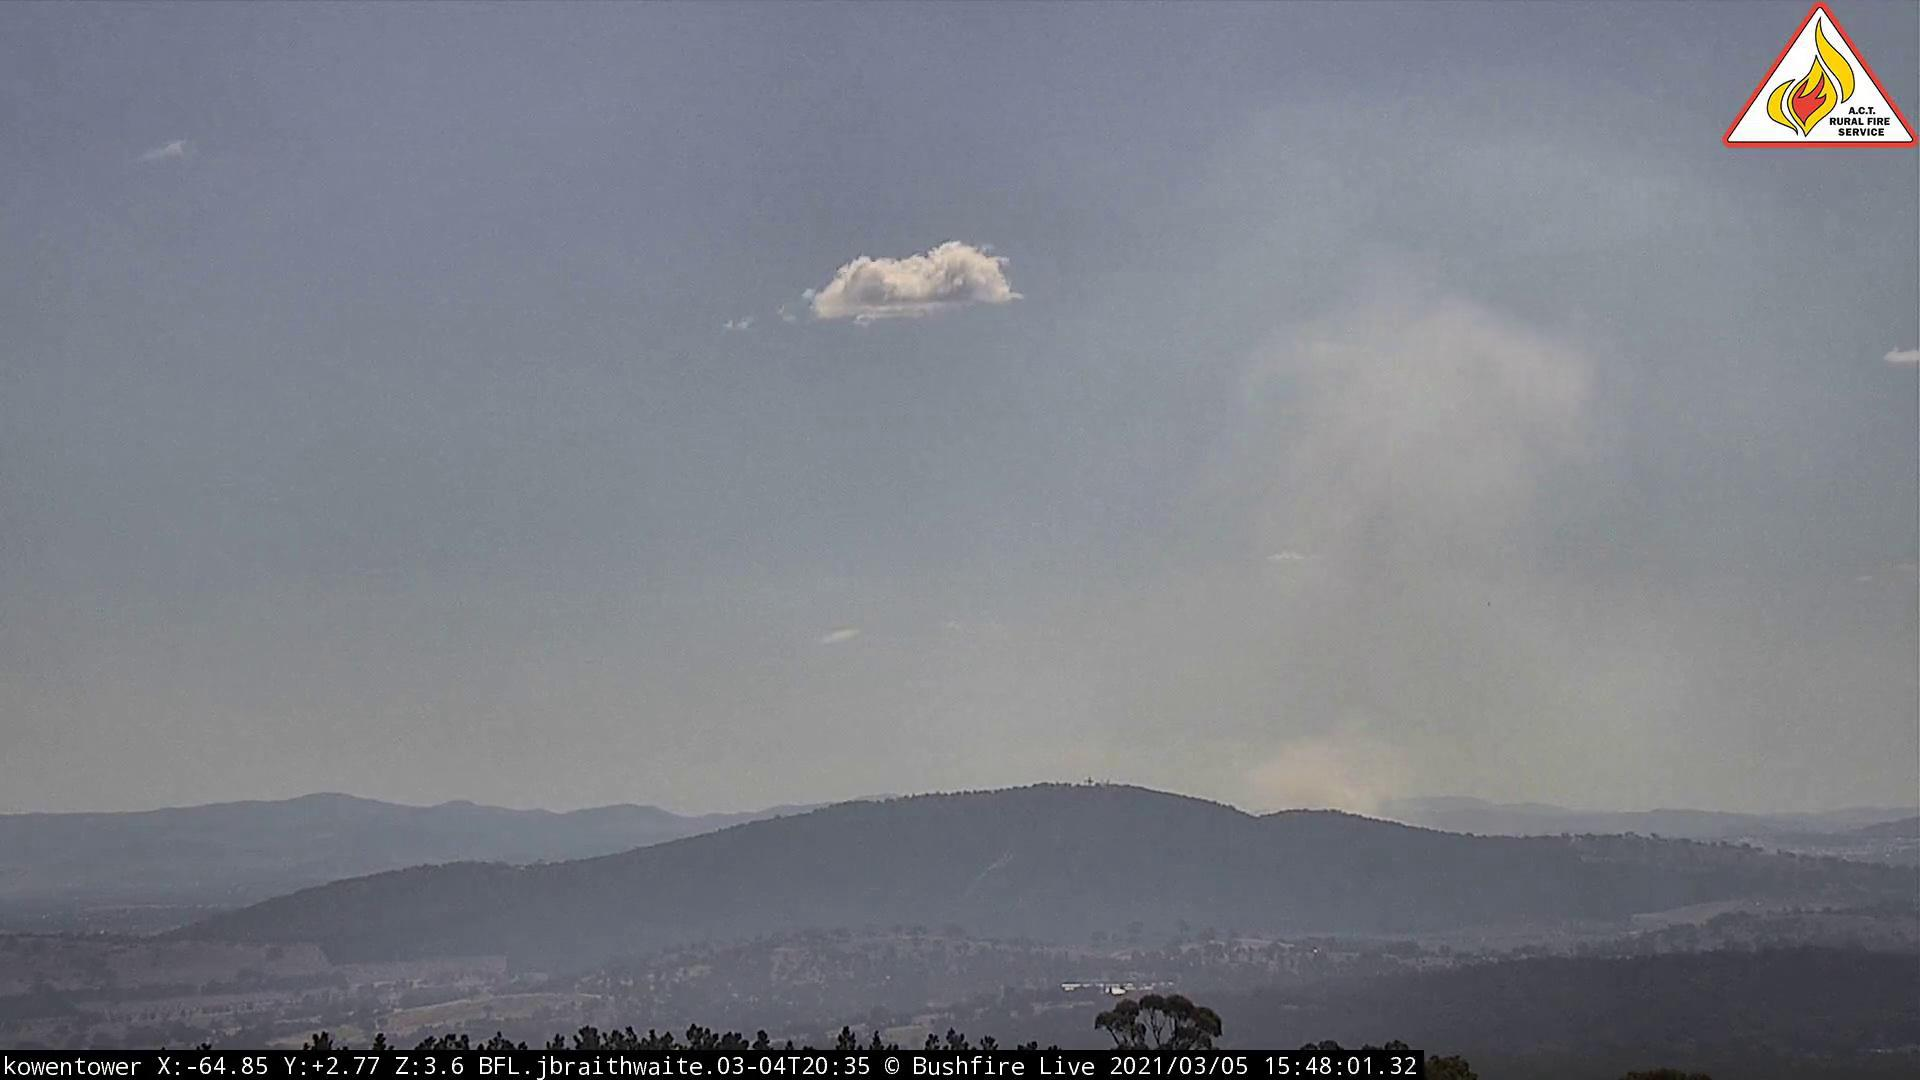Smoke: (1174, 258, 1731, 831)
